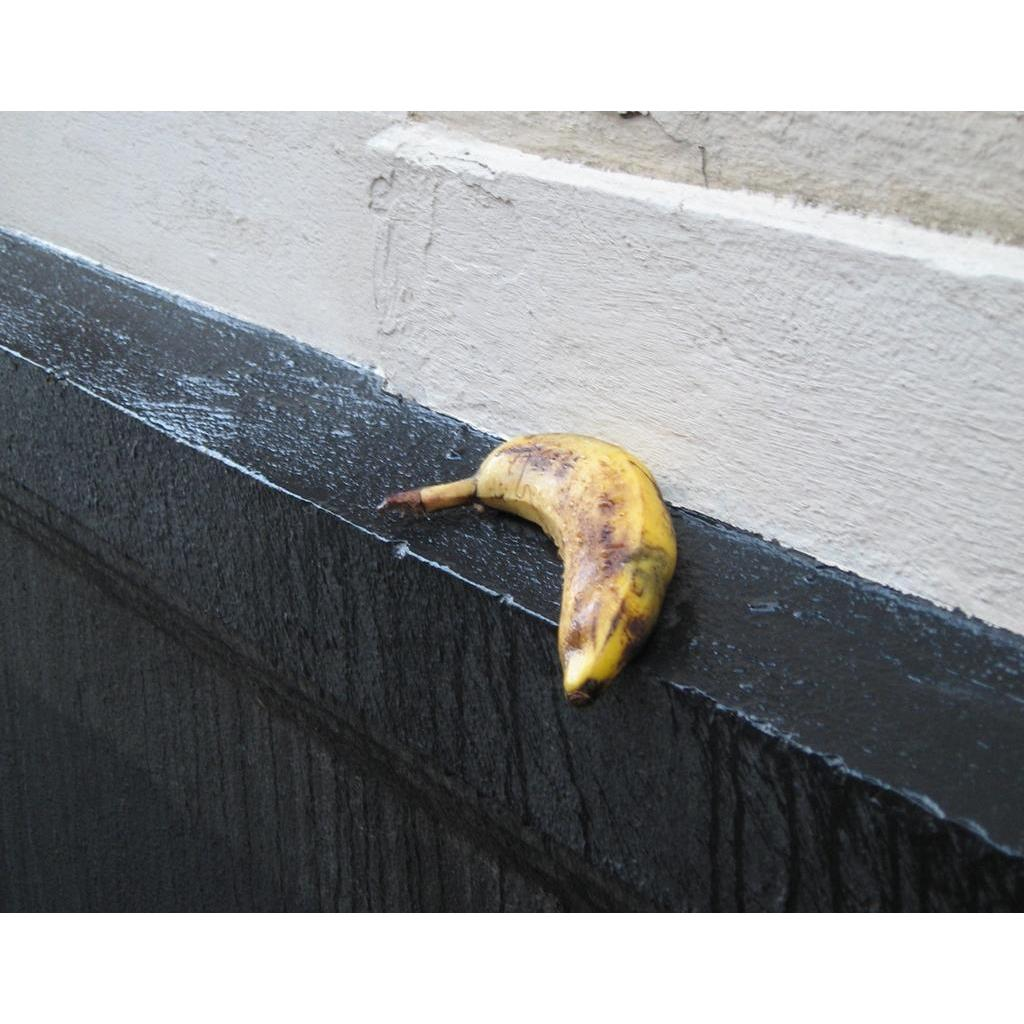banana: (378, 434, 677, 708)
